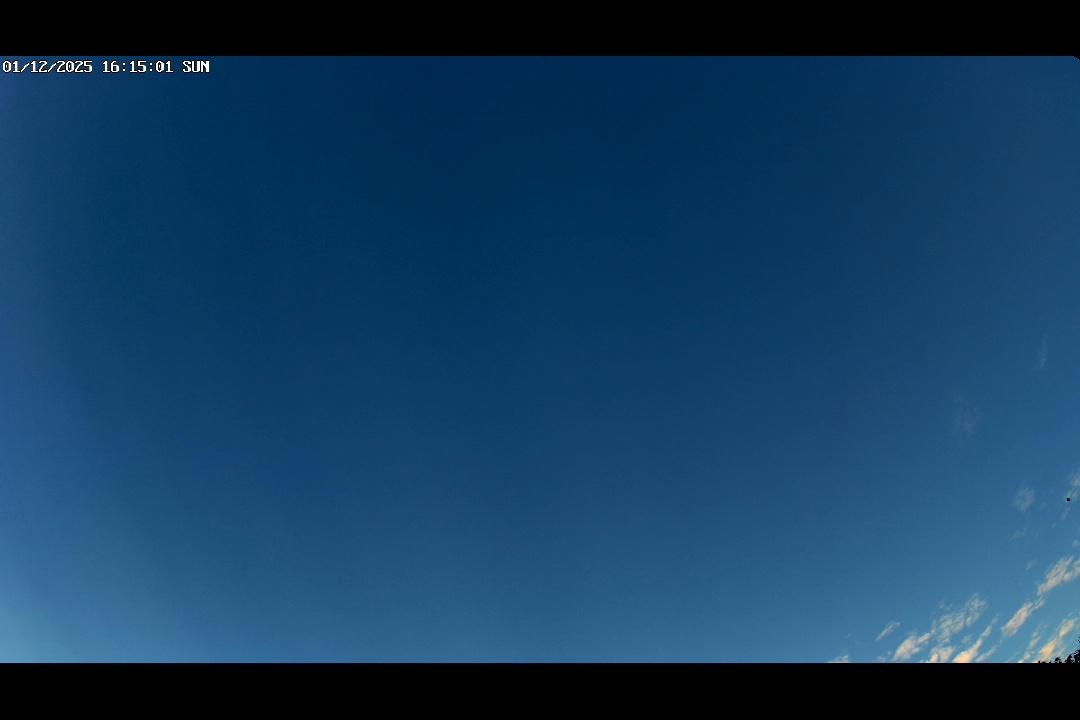WildLife: (1061, 492, 1076, 507)
